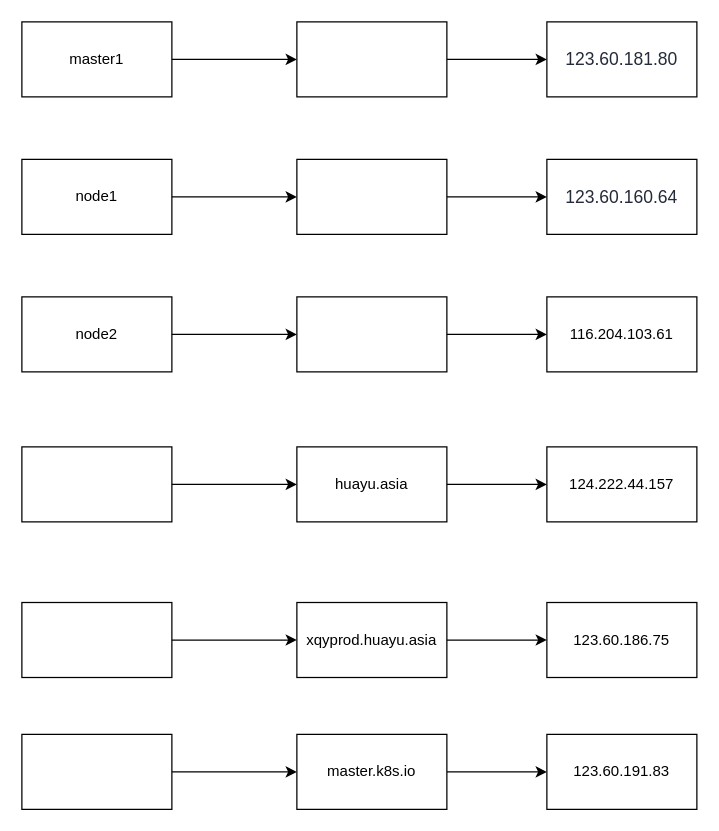
The diagram is 719 pixels wide and 831 high, and some of its shapes have lost their labels. The shapes that lost their labels are listed below. From the top down, each one's box as (x1, y1, x2, y2) in pixels, then its label:
(296, 21, 447, 97): prod.huayu.asia
(296, 158, 447, 234): devmonth.huayu.asia
(296, 296, 447, 372): xqydev.huayu.asia
(21, 446, 172, 522): master2
(21, 601, 172, 678): node3
(21, 733, 172, 809): vip
